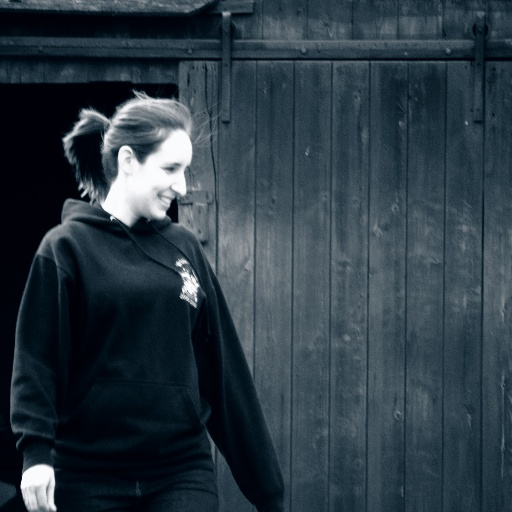hand: (11, 440, 47, 510)
